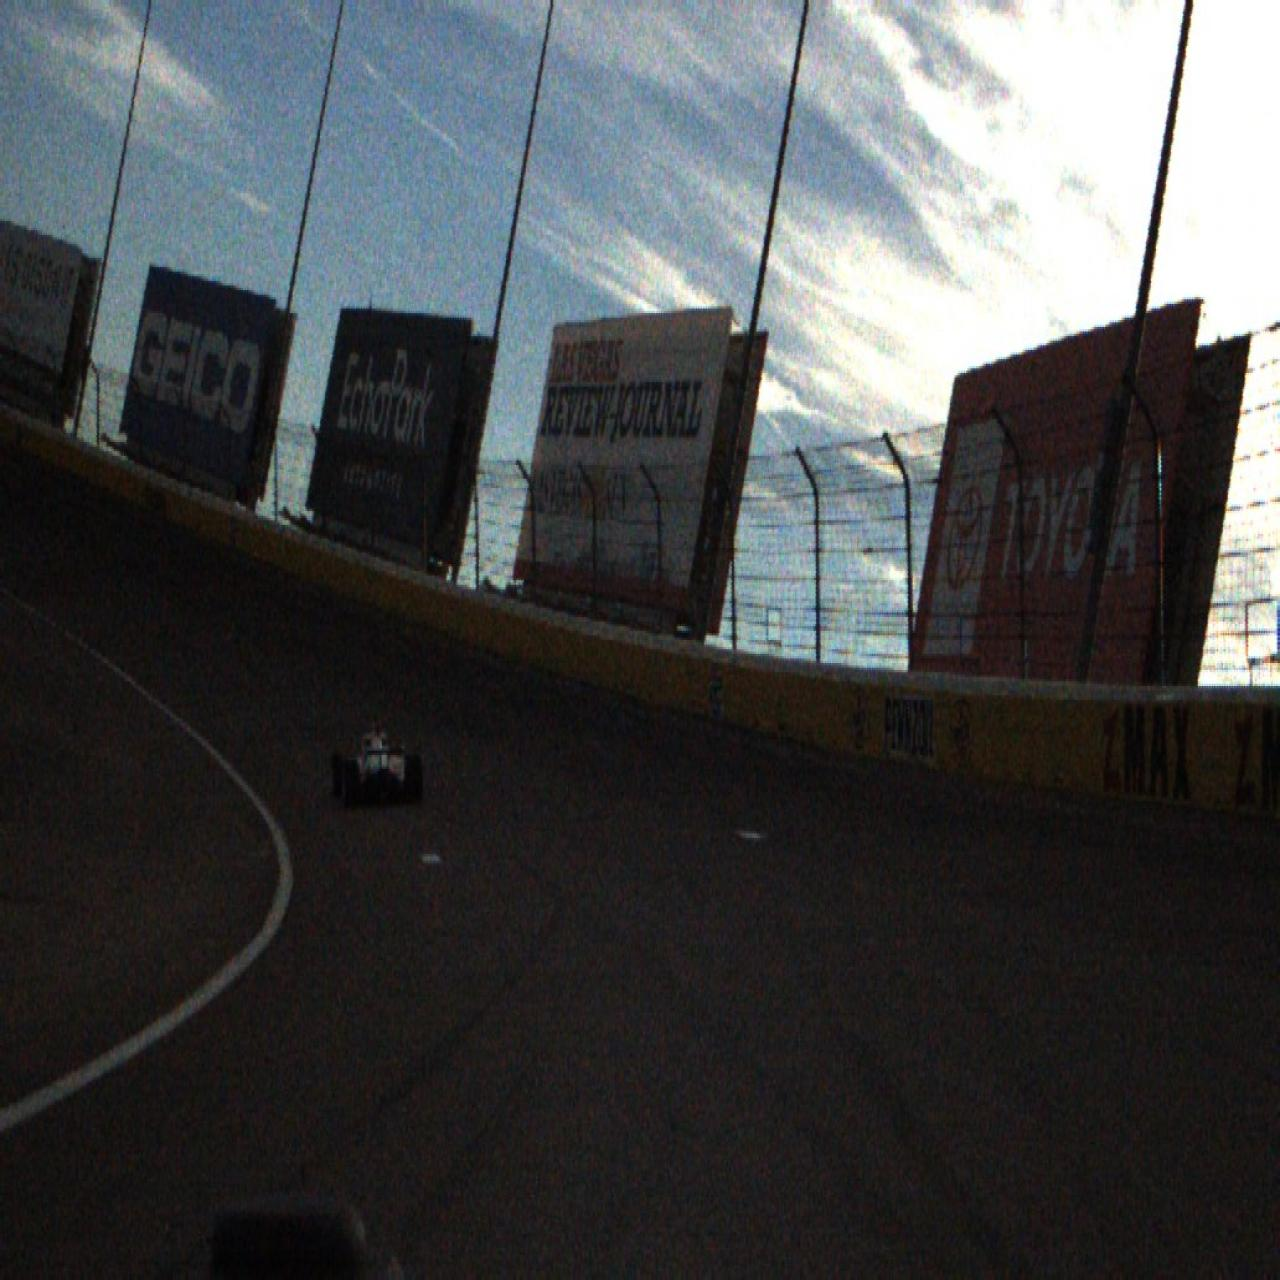AV: (331, 713, 423, 809)
Wheel: (407, 755, 423, 805), (343, 759, 358, 809), (332, 754, 346, 799)
